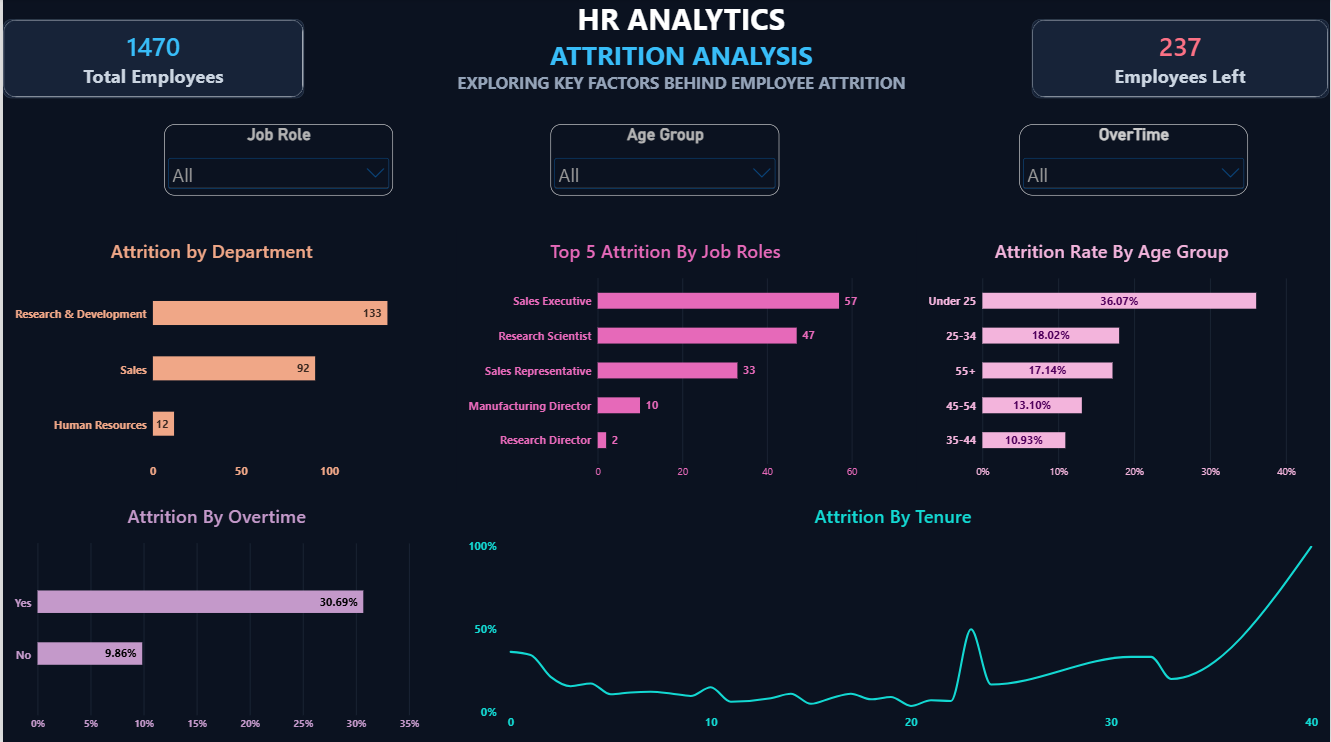

This screenshot's page, from the dashboard's own definition file:
{"tool":"powerbi","page":{"name":"Attrition Analysis","canvas":[1920,1080],"ordinal":1},"visuals":[{"type":"textbox","box":[618.2,0,726.3,178.4],"z":0},{"type":"cardVisual","title":"Total Employees","fields":{"Data":["HR.Total Employees"]},"box":[0,30.8,436.1,114],"z":1000},{"type":"cardVisual","title":"Total Employees","fields":{"Data":["HR.Employees Left"]},"box":[1489.4,30.8,430.7,114],"z":2000},{"type":"clusteredBarChart","title":"Attrition by Department","fields":{"Category":["HR.Department"],"Y":["HR.Employees Left"]},"box":[0,333,604.4,383.6],"z":3000},{"type":"clusteredBarChart","title":"Top 5 Attrition By Job Roles","fields":{"Category":["HR.JobRole"],"Y":["HR.Employees Left"]},"box":[656.9,333,604.4,383.6],"z":4000},{"type":"clusteredBarChart","title":"Attrition Rate By Age Group","fields":{"Category":["HR.Age Group"],"Y":["HR.Attrition Rate %"]},"box":[1322.9,333,564.6,383.6],"z":5000},{"type":"clusteredBarChart","title":"Attrition By Overtime","fields":{"Category":["HR.OverTime"],"Y":["HR.Attrition Rate %"]},"box":[0,716.6,618.9,363.7],"z":6000},{"type":"lineChart","title":"Attrition By Tenure","fields":{"Category":["HR.YearsAtCompany"],"Y":["HR.Attrition Rate %"]},"box":[656.9,716.6,1263.1,363.7],"z":7000},{"type":"slicer","title":"Job Role","fields":{"Values":["HR.JobRole"]},"box":[233.4,182.8,331.2,103.2],"z":8000},{"type":"slicer","title":"Age Group","fields":{"Values":["HR.Age Group"]},"box":[792.6,182.8,331.2,103.2],"z":9000},{"type":"slicer","title":"OverTime","fields":{"Values":["HR.OverTime"]},"box":[1471.3,182.8,331.2,103.2],"z":10000}]}

Visuals, with their boxes in screenshot pixels (x1, y1, x2, y2), scaled from the page's 1920x1080 canvas onto the 1331x742 screenshot:
textbox: [429,0,932,123]
"Total Employees" cardVisual: [0,21,302,99]
"Total Employees" cardVisual: [1032,21,1330,99]
"Attrition by Department" clusteredBarChart: [0,229,419,492]
"Top 5 Attrition By Job Roles" clusteredBarChart: [455,229,874,492]
"Attrition Rate By Age Group" clusteredBarChart: [917,229,1308,492]
"Attrition By Overtime" clusteredBarChart: [0,492,429,741]
"Attrition By Tenure" lineChart: [455,492,1330,741]
"Job Role" slicer: [162,126,391,196]
"Age Group" slicer: [549,126,779,196]
"OverTime" slicer: [1020,126,1250,196]
